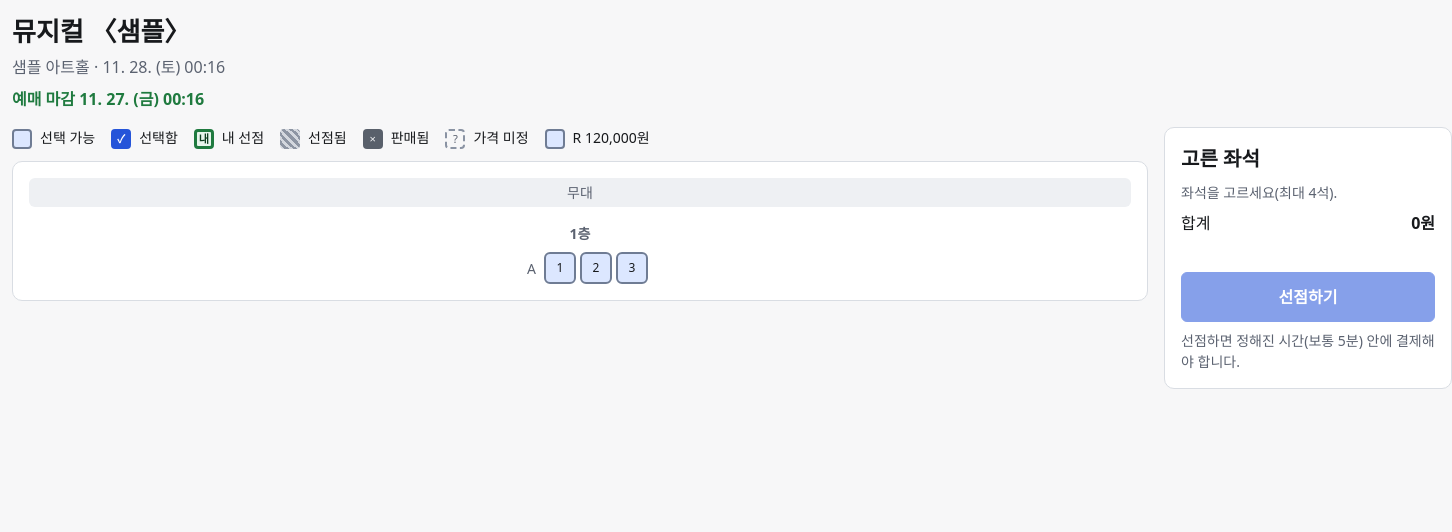
Test: 좌석 지도 화면 › 선점은 됐는데 주문을 만들지 못하면 그 안내가 남고 고른 좌석을 비운다
Click the button "1". click: (560, 268)
box: [544, 252, 576, 284]
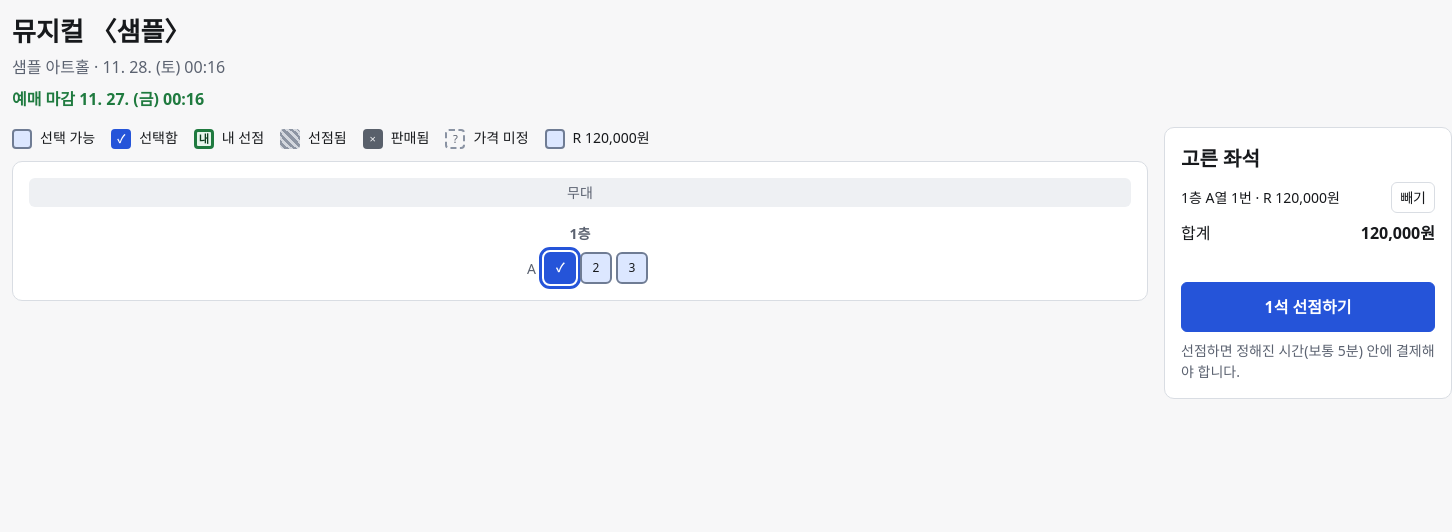
Click the button "1석 선점하기". click: (1308, 307)
box: [1181, 282, 1435, 332]
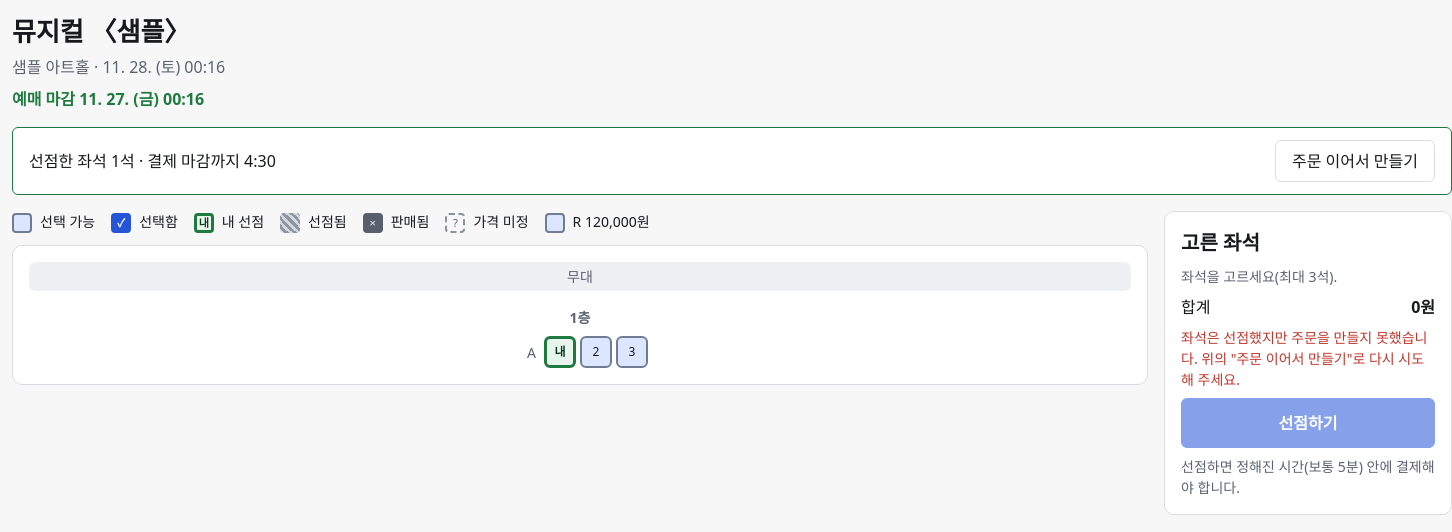
Result: the button "주문 이어서 만들기" is shown at [1275, 140, 1435, 182]
Result: the button "내" is shown at [544, 336, 576, 368]
Result: the text "좌석은 선점했지만 주문을 만들지 못했습니다. 위의 \"주문 이어서 만들기\"로 다시 시도해 주세요." is shown at [1181, 327, 1435, 390]
